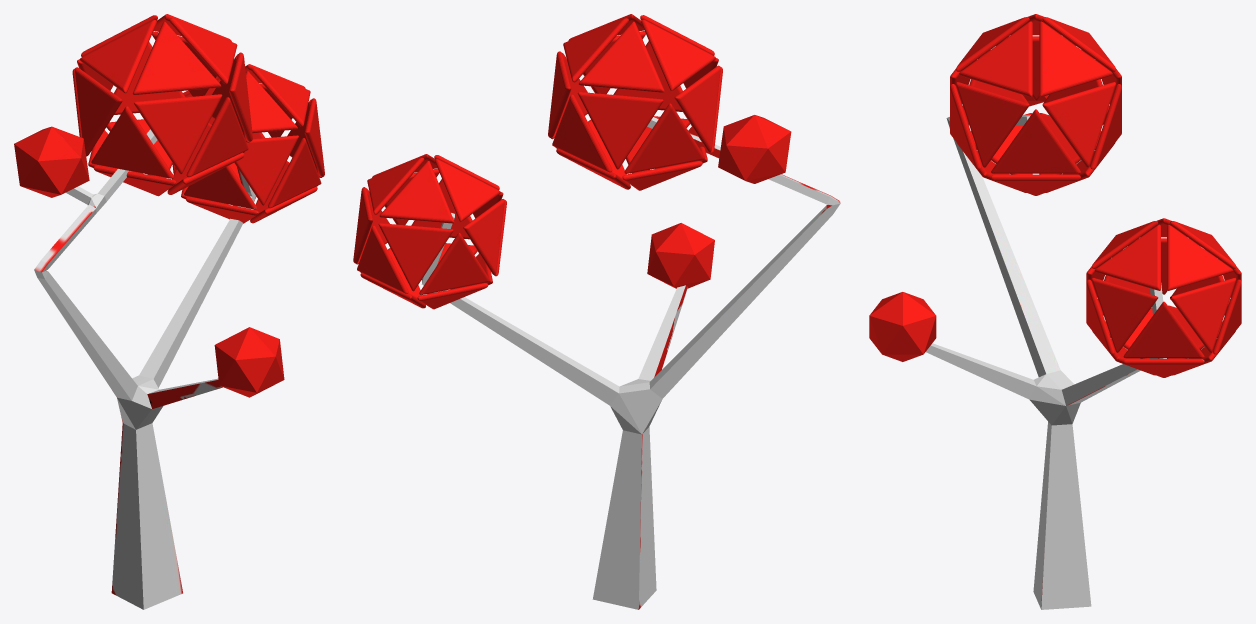
Rendered from RTree.obj.
3 renders of one model, left to right at view 1: azimuth 30°, elevation 25°; view 2: azimuth 150°, elevation 25°; view 3: azimuth 270°, elevation 25°, orthographic. The views are drawn at different scales.
Visible parts, largest first — view 1: Icosphere.014, Cube, Icosphere.010, Icosphere.007, Icosphere.011; view 2: Icosphere.014, Cube, Icosphere.010, Icosphere.007, Icosphere.011; view 3: Icosphere.014, Icosphere.010, Cube, Icosphere.011.
Part boxes in pixels (<box>): Icosphere.014: <box>72,14,252,196</box>; Cube: <box>34,129,256,609</box>; Icosphere.010: <box>172,64,324,223</box>; Icosphere.007: <box>14,126,89,197</box>; Icosphere.011: <box>214,327,284,397</box>; Icosphere.014: <box>548,14,722,190</box>; Cube: <box>422,117,840,609</box>; Icosphere.010: <box>353,154,506,309</box>; Icosphere.007: <box>718,115,791,183</box>; Icosphere.011: <box>647,223,714,288</box>; Icosphere.014: <box>950,14,1121,195</box>; Icosphere.010: <box>1086,218,1241,377</box>; Cube: <box>926,115,1163,609</box>; Icosphere.011: <box>869,292,936,361</box>.
Size of the model in its own units: 2.02 by 2.93 by 1.7.
1 material, 1 textured.
